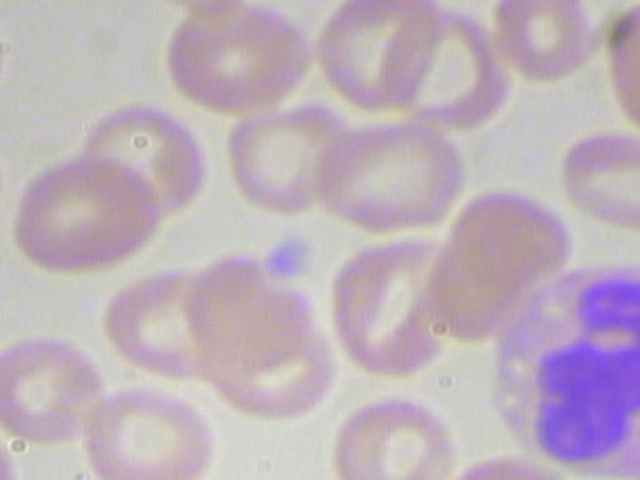Platelets: (260, 228, 324, 287)
RBC: (316, 236, 479, 378), (1, 149, 163, 281), (305, 114, 470, 238), (157, 0, 318, 121), (213, 100, 353, 217), (0, 327, 115, 445), (88, 386, 228, 480), (332, 386, 460, 480), (552, 116, 640, 239), (484, 0, 595, 88), (604, 0, 640, 100), (0, 0, 7, 115), (0, 137, 2, 289)
WBC: (477, 257, 640, 480)
